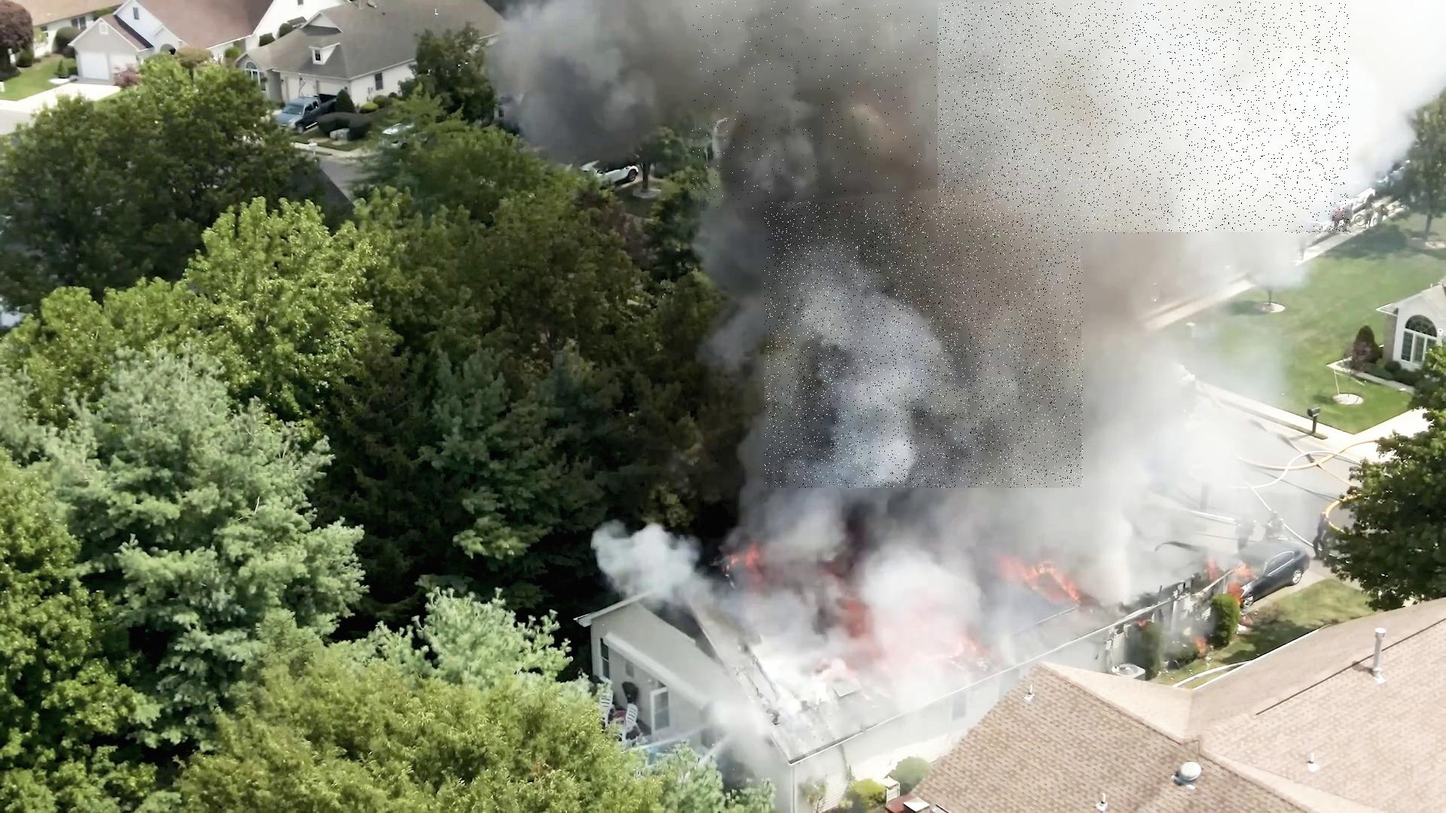smoke: (938, 2, 1350, 234), (765, 202, 1084, 488), (692, 0, 1012, 211)
